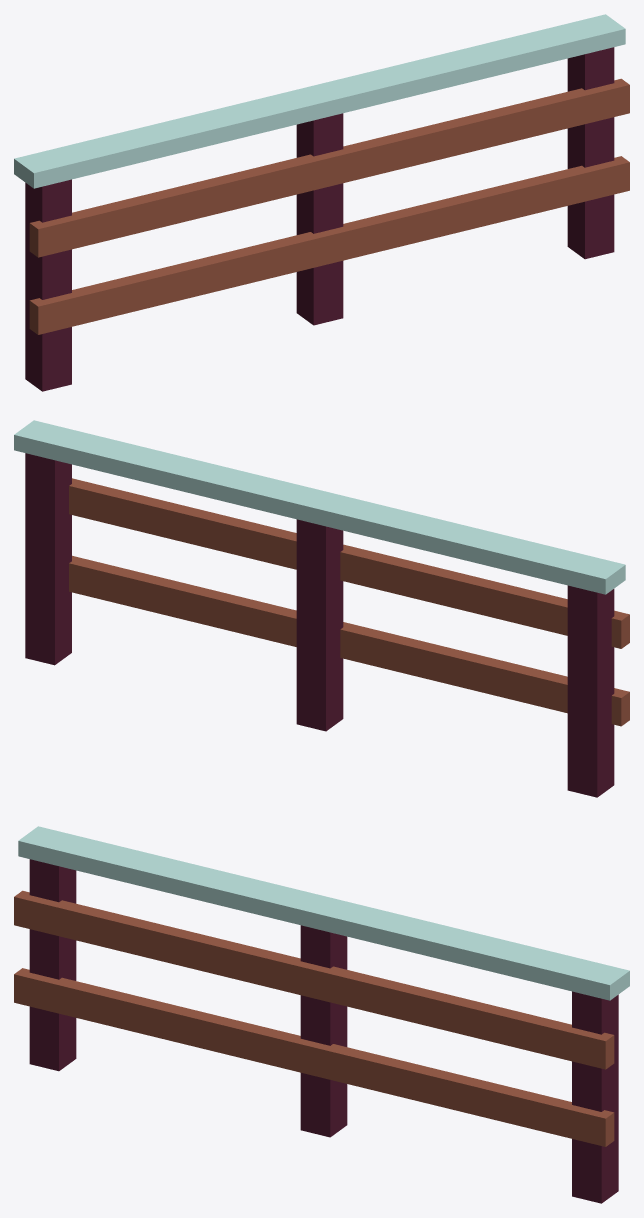
The model's file is fence.glb.
3 renders of one model, top to bottom at view 1: azimuth 30°, elevation 25°; view 2: azimuth 150°, elevation 25°; view 3: azimuth 330°, elevation 25°, orthographic.
Parts seen in each view (by area): view 1: Rail2, Rail1, Cap, Post1, Post3, Post2; view 2: Cap, Rail2, Rail1, Post1, Post2, Post3; view 3: Rail2, Rail1, Cap, Post3, Post1, Post2.
Part boxes in pixels (<box>): Rail2: <box>29,156,629,334</box>; Rail1: <box>29,78,629,257</box>; Cap: <box>14,14,625,188</box>; Post1: <box>25,179,71,391</box>; Post3: <box>567,47,614,259</box>; Post2: <box>296,113,343,325</box>; Cap: <box>14,420,625,594</box>; Rail2: <box>69,555,629,726</box>; Rail1: <box>69,478,629,648</box>; Post1: <box>567,585,614,797</box>; Post2: <box>296,519,343,731</box>; Post3: <box>25,453,71,665</box>; Rail2: <box>14,968,614,1146</box>; Rail1: <box>14,890,614,1069</box>; Cap: <box>18,826,629,1000</box>; Post3: <box>572,991,618,1203</box>; Post1: <box>29,859,76,1071</box>; Post2: <box>300,925,347,1137</box>.
Size of the model in its own units: 2.4 by 0.86 by 0.17.
